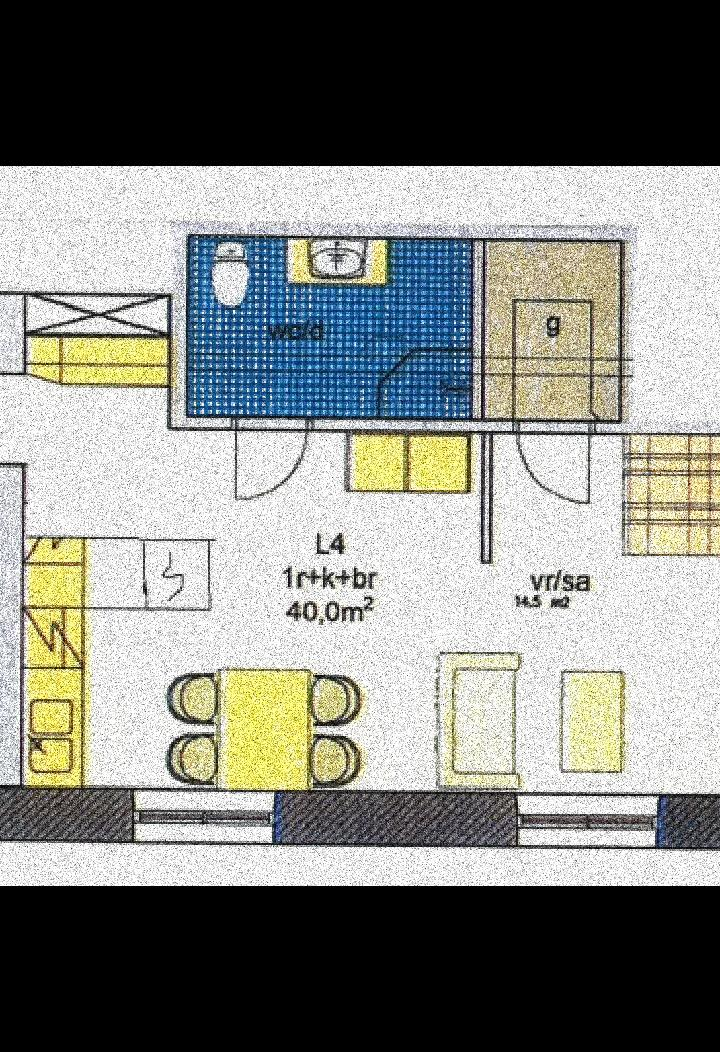door: (228, 420, 309, 504), (521, 425, 588, 504)
window: (517, 791, 657, 847), (136, 791, 269, 844)
zone: (0, 295, 720, 787), (190, 241, 468, 419), (489, 247, 626, 420)
